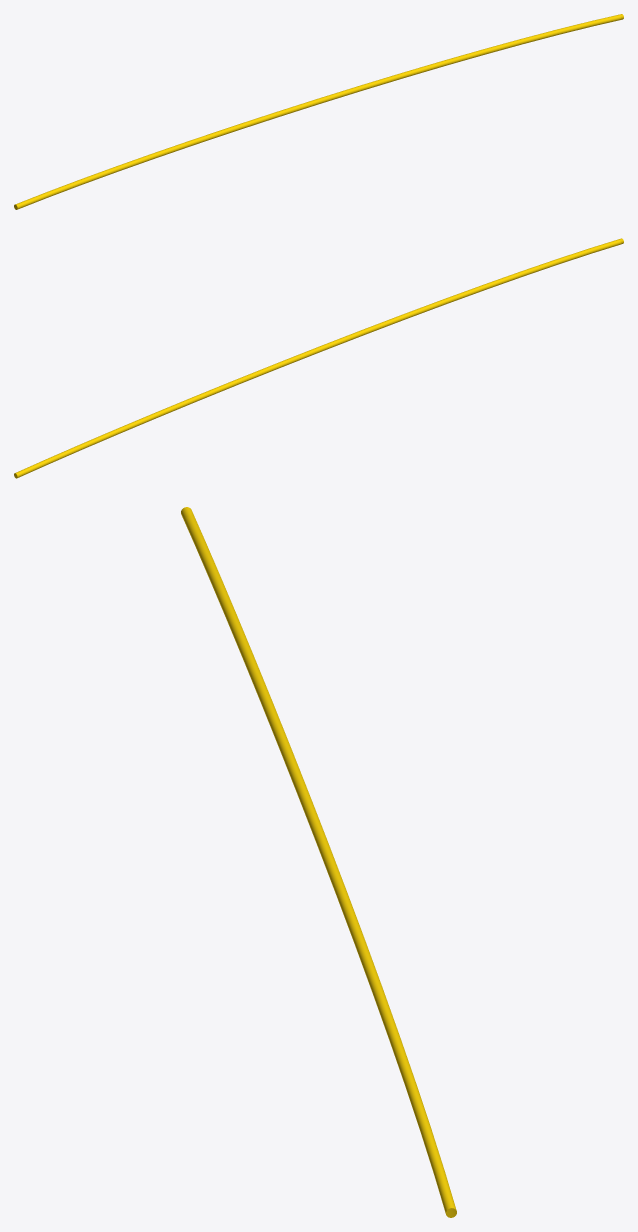
File: Event_421278790_track_20.fbx
The picture shows the model from 3 angles, top to bottom: view 1: azimuth 30°, elevation 25°; view 2: azimuth 210°, elevation 25°; view 3: azimuth 270°, elevation 25°; orthographic projection. The views are drawn at different scales.
Parts seen in each view (by area): view 1: Model; view 2: Model; view 3: Model.
Boxes of the visible parts, x1,y1,x2,y2 form: Model: (14,14,623,209); Model: (14,238,623,478); Model: (181,507,456,1217).
Size of the model in its own units: 5.48 by 0.2312 by 0.9731.
